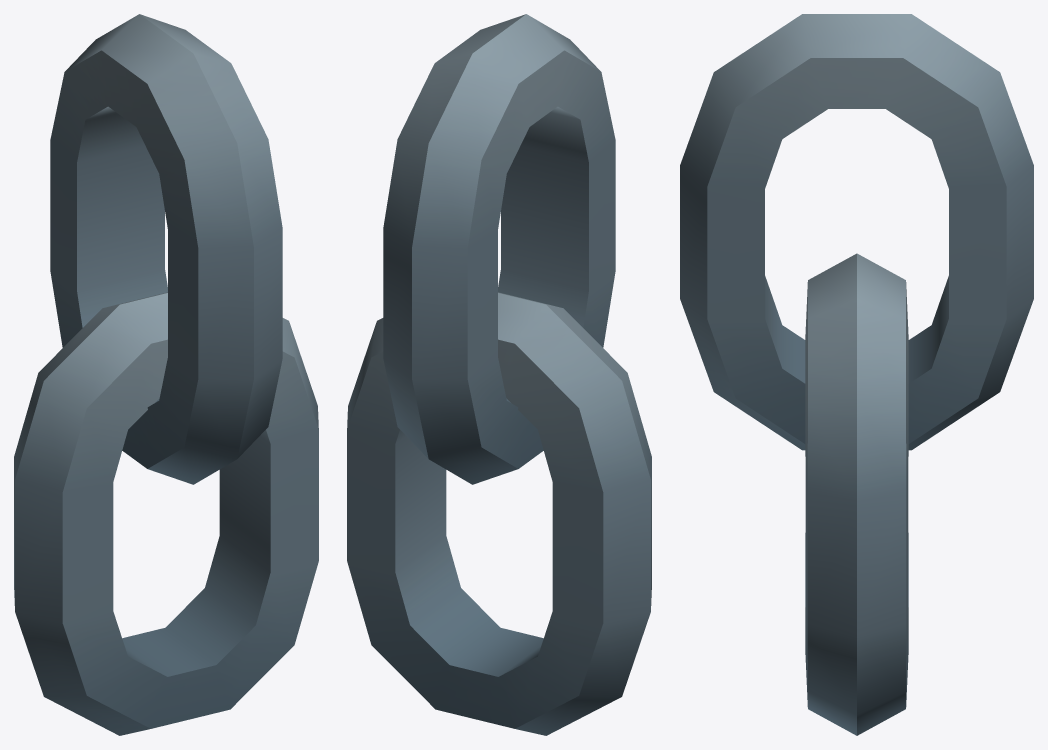
File: chainlinks.glb
The picture shows the model from 3 angles, left to right: view 1: azimuth 30°, elevation 25°; view 2: azimuth 150°, elevation 25°; view 3: azimuth 270°, elevation 25°; orthographic projection.
Visible parts, largest first — view 1: chainlinks; view 2: chainlinks; view 3: chainlinks.
Boxes of the visible parts, x1,y1,x2,y2 form: chainlinks: (14,14,318,735); chainlinks: (347,14,651,735); chainlinks: (680,14,1033,735).
Size of the model in its own units: 0.2443 by 0.5325 by 0.2443.
1 material, 1 textured.
